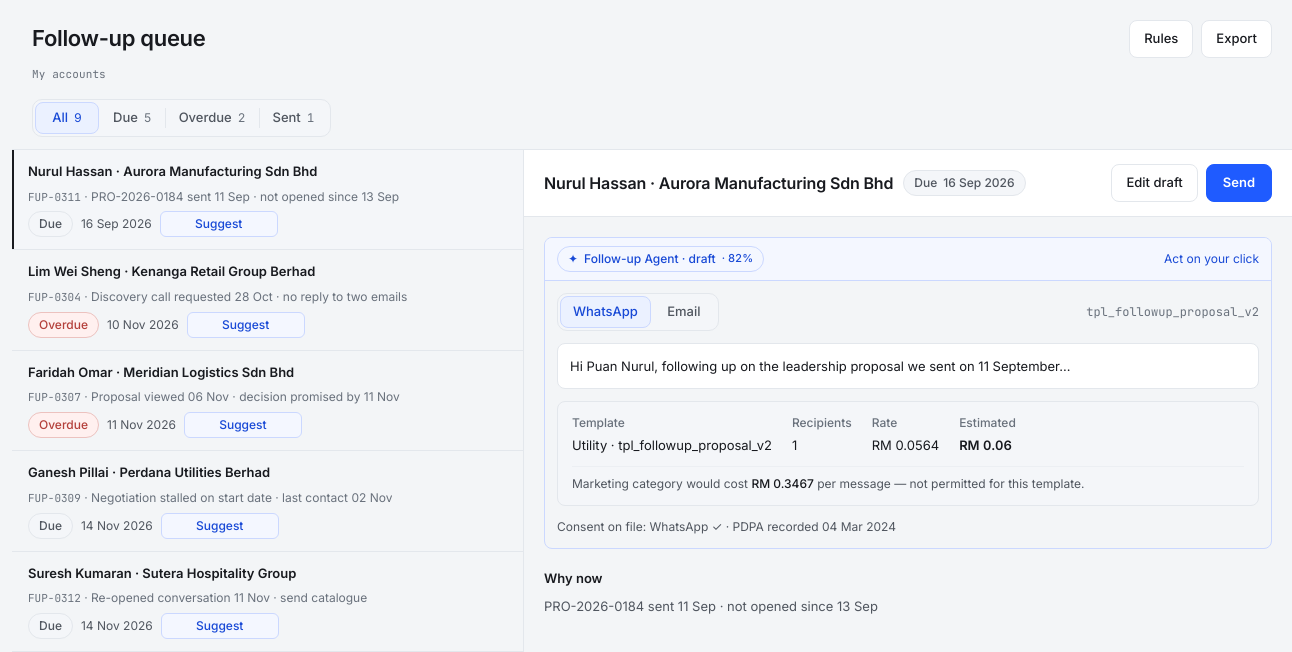
M03-S06 · follow-up queue › sends on a human click and renders the executed outcome
Click the button "Send": [1239, 183] box [1206,164,1272,202]
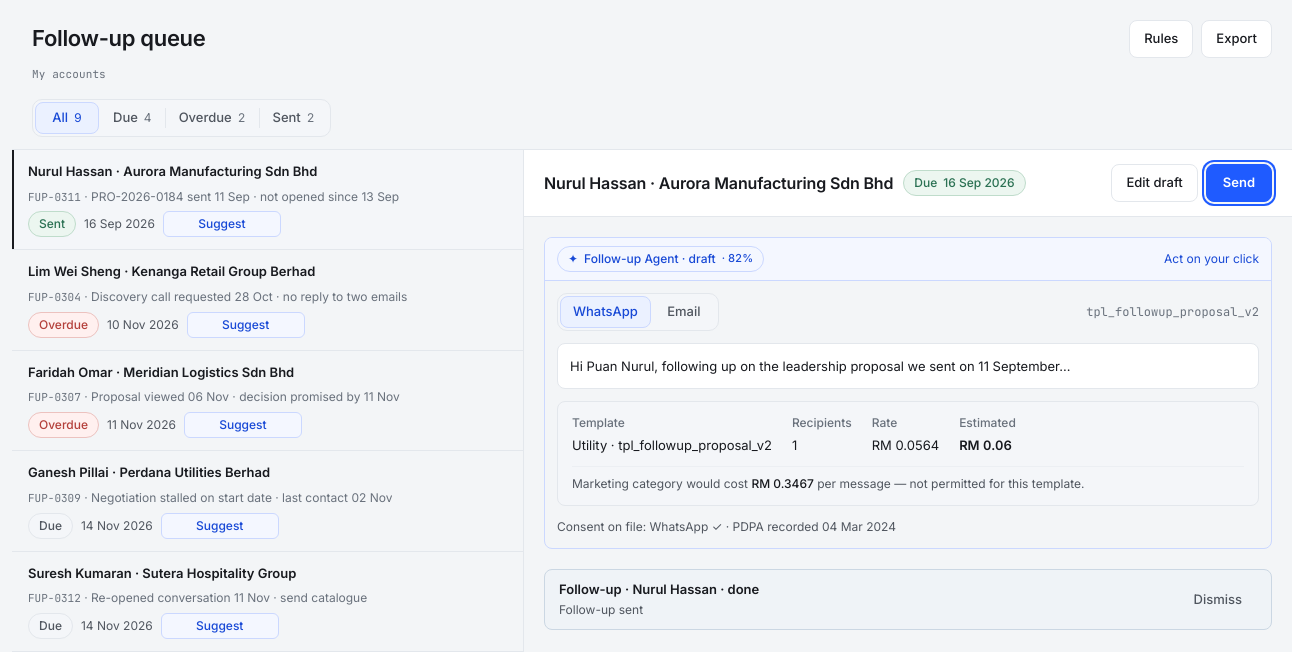
Result: the text "Follow-up · Nurul Hassan · done" is shown at [559,581,759,597]
Result: the text "Follow-up sent" is shown at [559,602,643,617]
